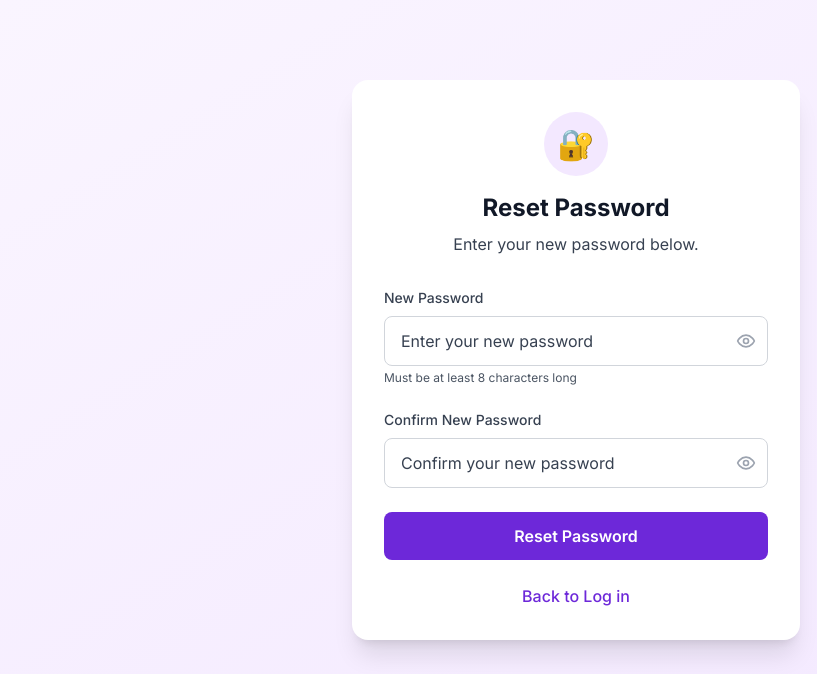
Scenario: Reset Password Validation › valid submit succeeds
Expected: the button with test id "reset-submit" is enabled, [384,512,768,560]
Step 1. Type "password123" into the password field labelled "New Password" → (576, 341), box [384,316,768,366]
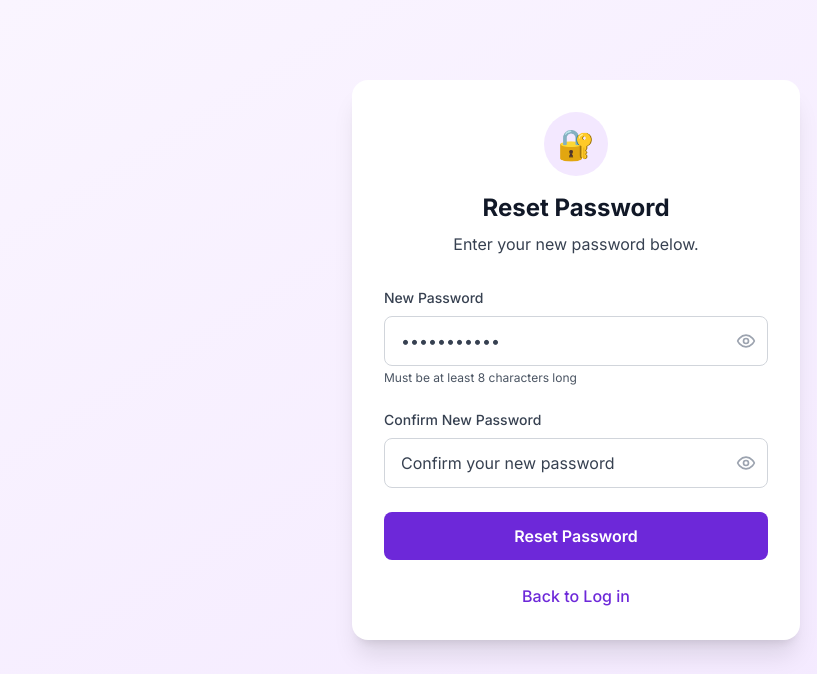
Step 2. Type "password123" into the password field labelled "Confirm New Password" → (576, 463), box [384,438,768,488]
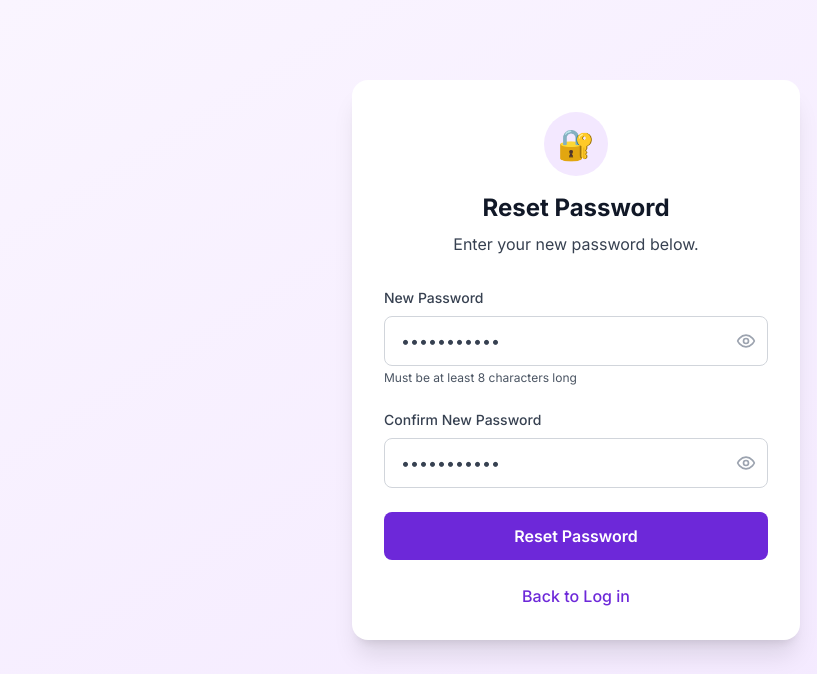
Step 3. Click the button with test id "reset-submit" → click(576, 536), box [384,512,768,560]
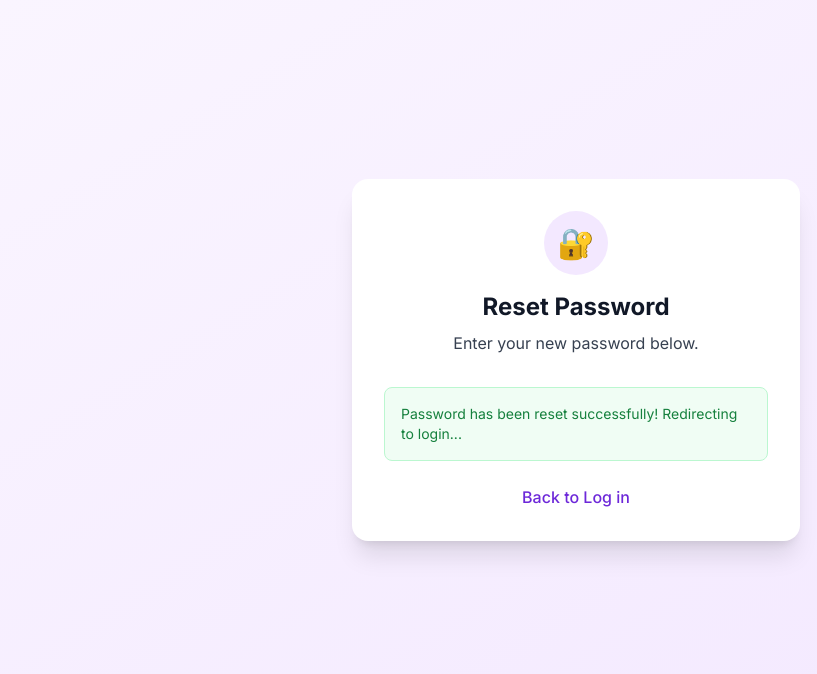
Now the text "Password has been reset successfully" is shown, box [401,405,737,442]
